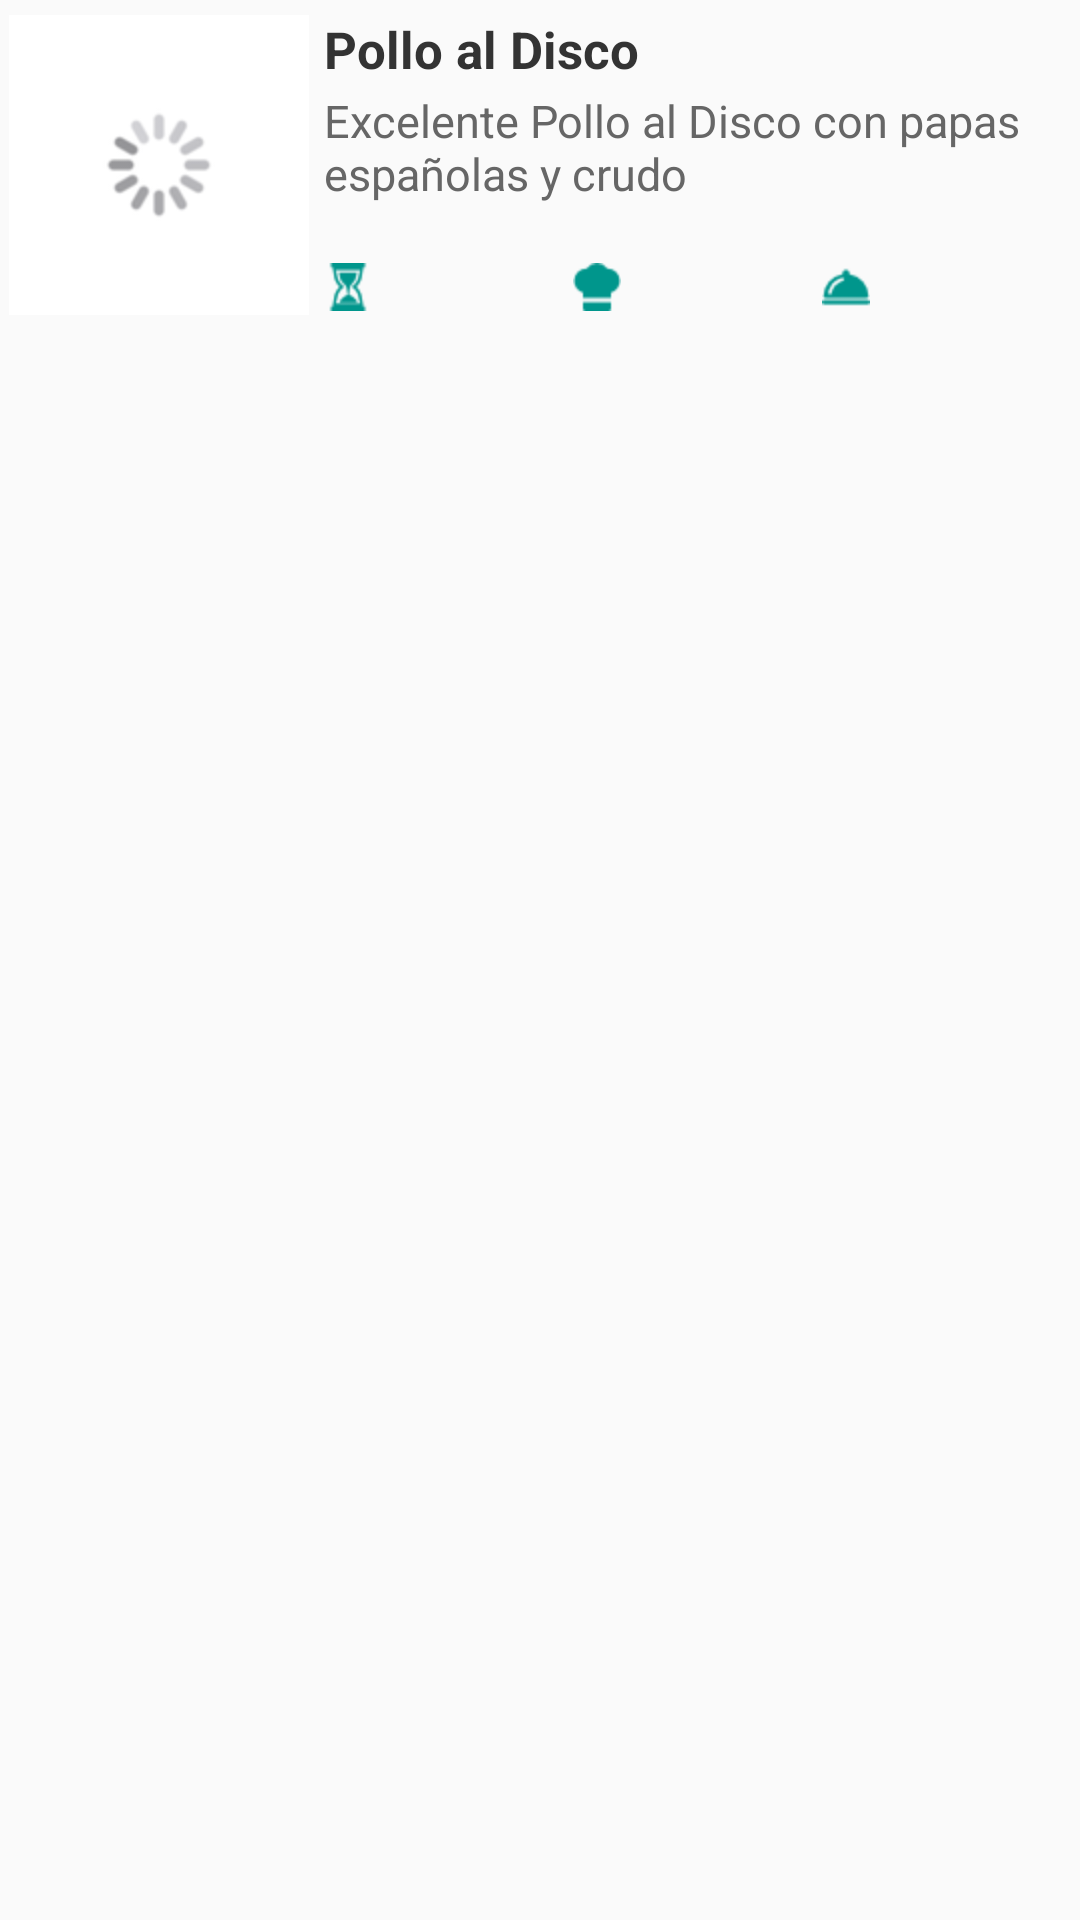

Icon bounding boxes for this 1080*1920 phone screenshot, format {"left": x1, "top": y1, "right": x2, "bottom": y2}:
async loader list recetas: {"left": 108, "top": 115, "right": 210, "bottom": 216}
